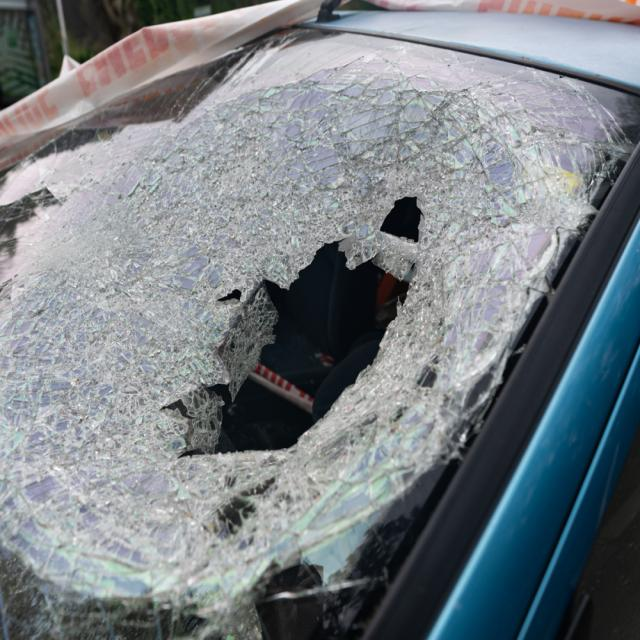glass shatter: (0, 24, 640, 640)
